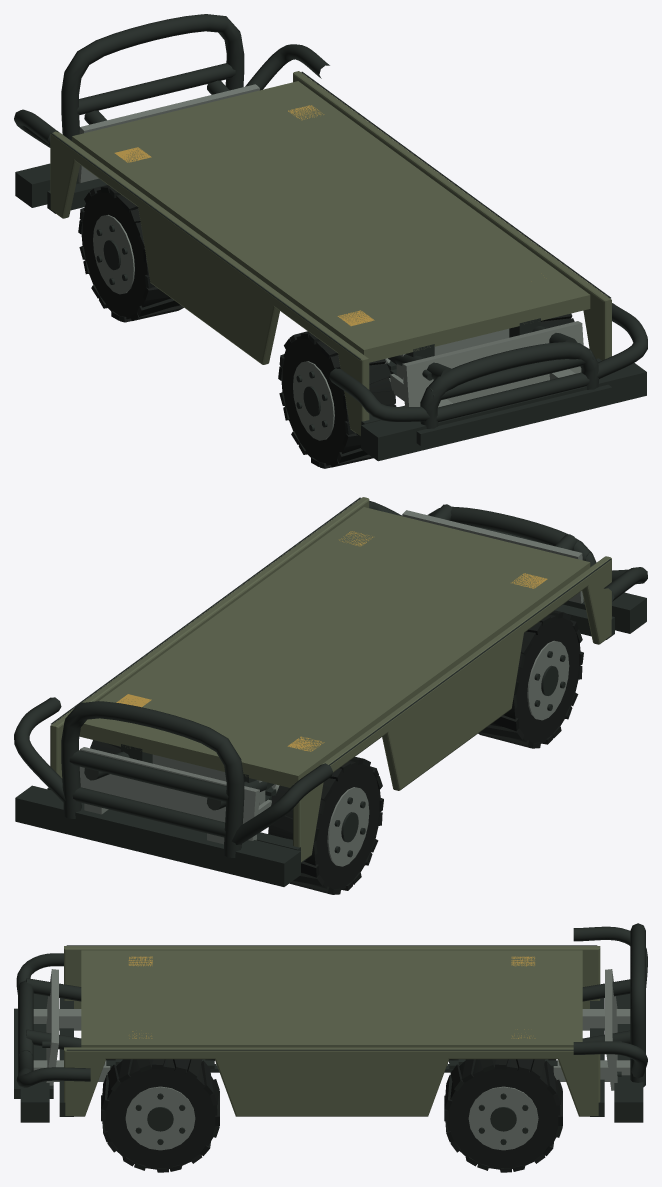
3 views of the same model, one above another, from view 1: azimuth 30°, elevation 25°; view 2: azimuth 150°, elevation 25°; view 3: azimuth 270°, elevation 25° (orthographic). The views are drawn at different scales.
Visible parts, largest first — view 1: C01_surface_02, C01_surface_00, C01_surface_01, C01_surface_04, C01_surface_07, C01_surface_05, C01_surface_08, C01_surface_03, C01_surface_06, C01_surface_09; view 2: C01_surface_02, C01_surface_00, C01_surface_01, C01_surface_07, C01_surface_04, C01_surface_05, C01_surface_08, C01_surface_03, C01_surface_06, C01_surface_09; view 3: C01_surface_02, C01_surface_00, C01_surface_10, C01_surface_13, C01_surface_01, C01_surface_14, C01_surface_11, C01_surface_15, C01_surface_12, C01_surface_03.
Part boxes in pixels (x1=…): C01_surface_02: x1=50, y1=71, x2=611, y2=435; C01_surface_00: x1=14, y1=14, x2=647, y2=461; C01_surface_01: x1=78, y1=84, x2=583, y2=407; C01_surface_04: x1=278, y1=331, x2=396, y2=468; C01_surface_07: x1=78, y1=185, x2=183, y2=322; C01_surface_05: x1=293, y1=361, x2=334, y2=440; C01_surface_08: x1=93, y1=214, x2=134, y2=294; C01_surface_03: x1=114, y1=105, x2=374, y2=326; C01_surface_06: x1=296, y1=371, x2=327, y2=431; C01_surface_09: x1=96, y1=225, x2=127, y2=284; C01_surface_02: x1=50, y1=497, x2=611, y2=862; C01_surface_00: x1=14, y1=497, x2=647, y2=886; C01_surface_01: x1=79, y1=510, x2=583, y2=844; C01_surface_07: x1=268, y1=757, x2=383, y2=894; C01_surface_04: x1=478, y1=610, x2=583, y2=748; C01_surface_05: x1=527, y1=640, x2=569, y2=720; C01_surface_08: x1=327, y1=787, x2=369, y2=866; C01_surface_03: x1=116, y1=531, x2=547, y2=751; C01_surface_06: x1=534, y1=651, x2=565, y2=710; C01_surface_09: x1=334, y1=797, x2=365, y2=857; C01_surface_02: x1=64, y1=946, x2=600, y2=1116; C01_surface_00: x1=14, y1=923, x2=647, y2=1122; C01_surface_10: x1=101, y1=1059, x2=219, y2=1172; C01_surface_13: x1=444, y1=1059, x2=562, y2=1172; C01_surface_01: x1=33, y1=969, x2=630, y2=1090; C01_surface_14: x1=468, y1=1086, x2=538, y2=1150; C01_surface_11: x1=125, y1=1086, x2=195, y2=1150; C01_surface_15: x1=478, y1=1093, x2=528, y2=1144; C01_surface_12: x1=135, y1=1093, x2=185, y2=1144; C01_surface_03: x1=128, y1=956, x2=535, y2=1038.
Bounding box in the file's own units: 2.15 × 1.49 × 4.8.
